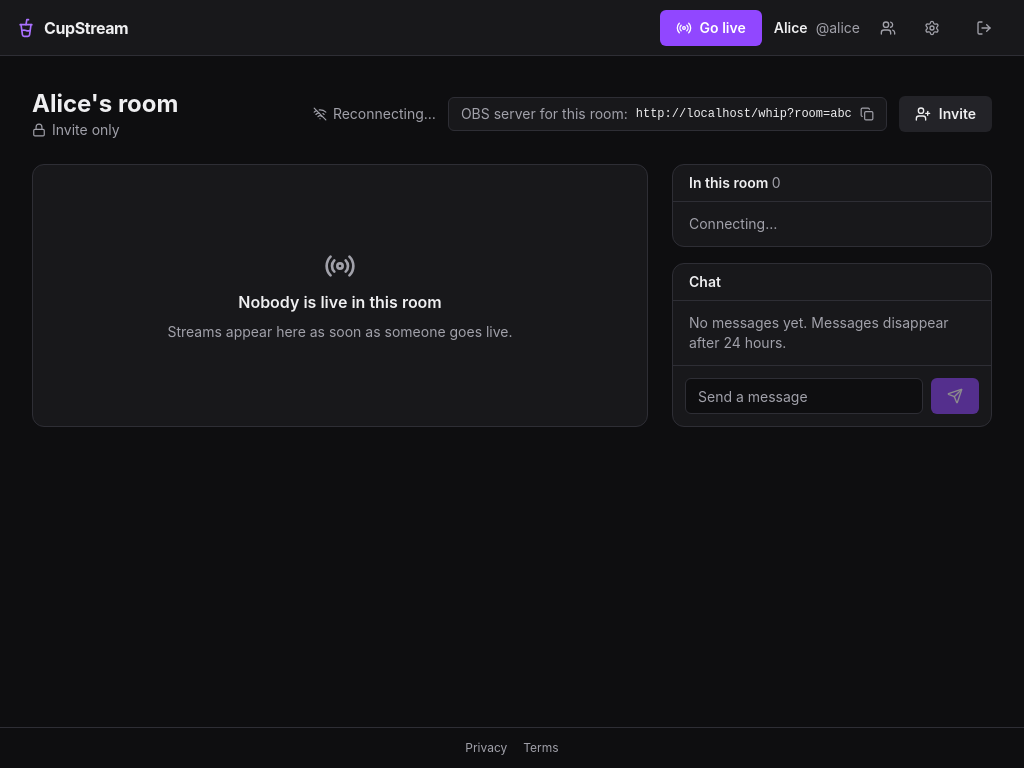
it: the owner creates and revokes invite links from the room
Click the button "Invite". click: point(945, 114)
box: top-left (899, 96), bottom-right (992, 132)
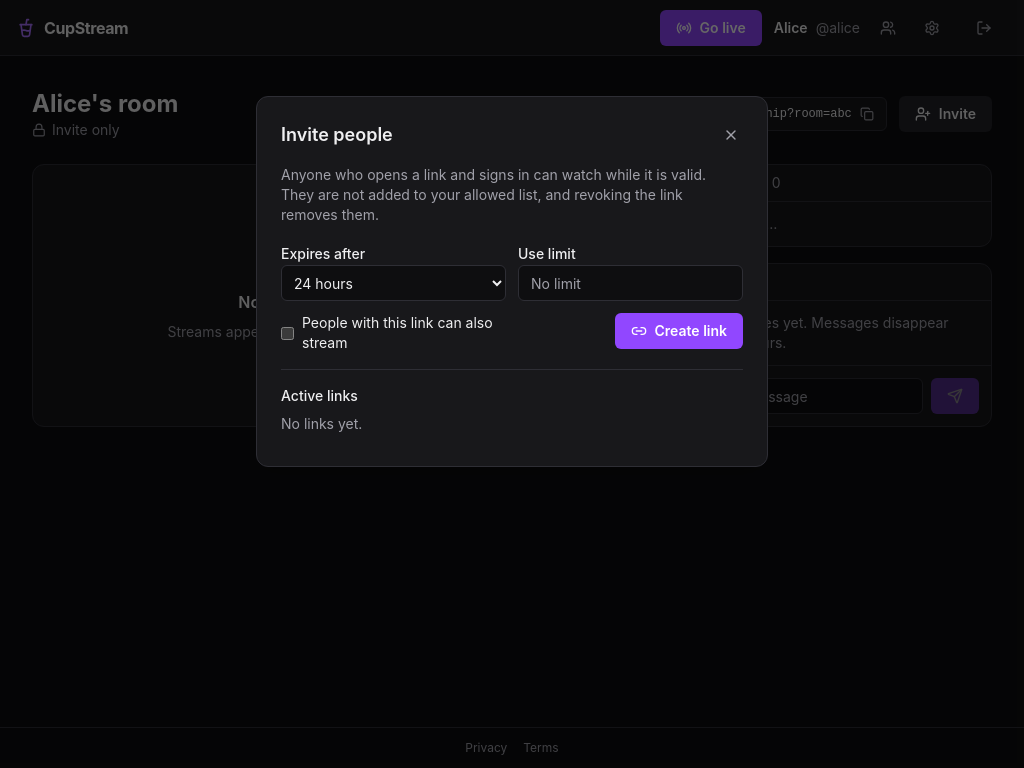
Check: the text "No links yet." is shown, box top-left (281, 415), bottom-right (362, 432)
Select "Until the stream ends" in the dropdown. click: point(394, 283)
box: top-left (281, 265), bottom-right (506, 301)
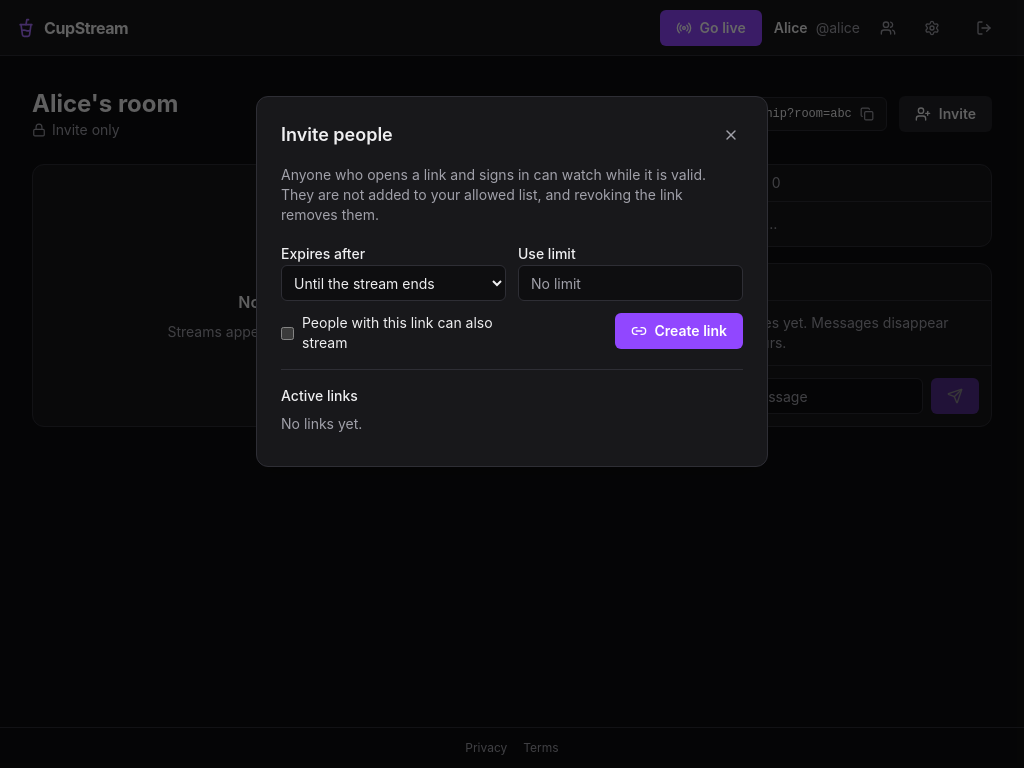
Type "5" into the number field with placeholder "No limit". click: point(630, 283)
box: top-left (518, 265), bottom-right (743, 301)
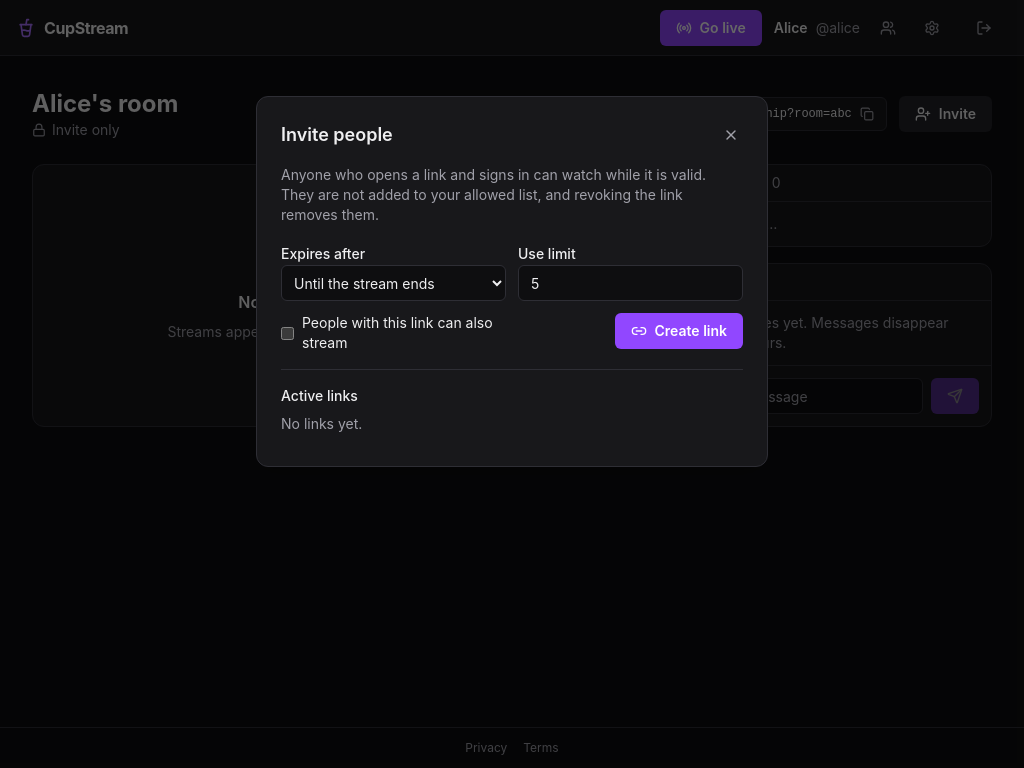
Click the checkbox. click: point(288, 333)
box: top-left (281, 326), bottom-right (294, 340)
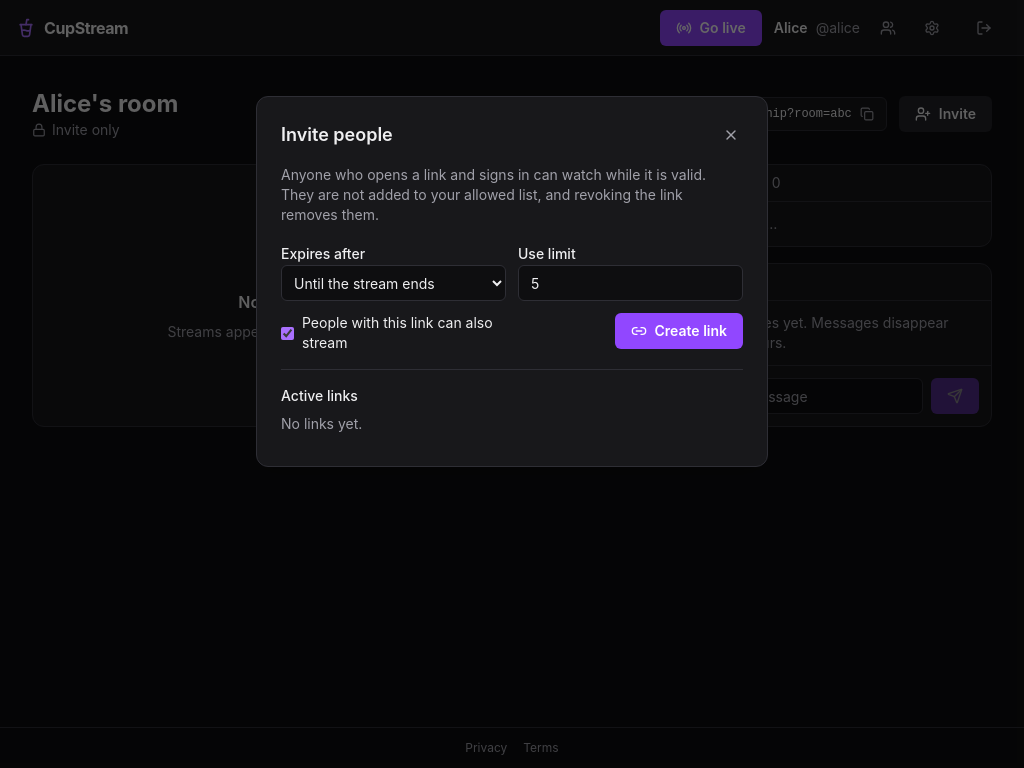
Click the button "Create link". click: point(679, 331)
box: top-left (614, 313), bottom-right (743, 349)
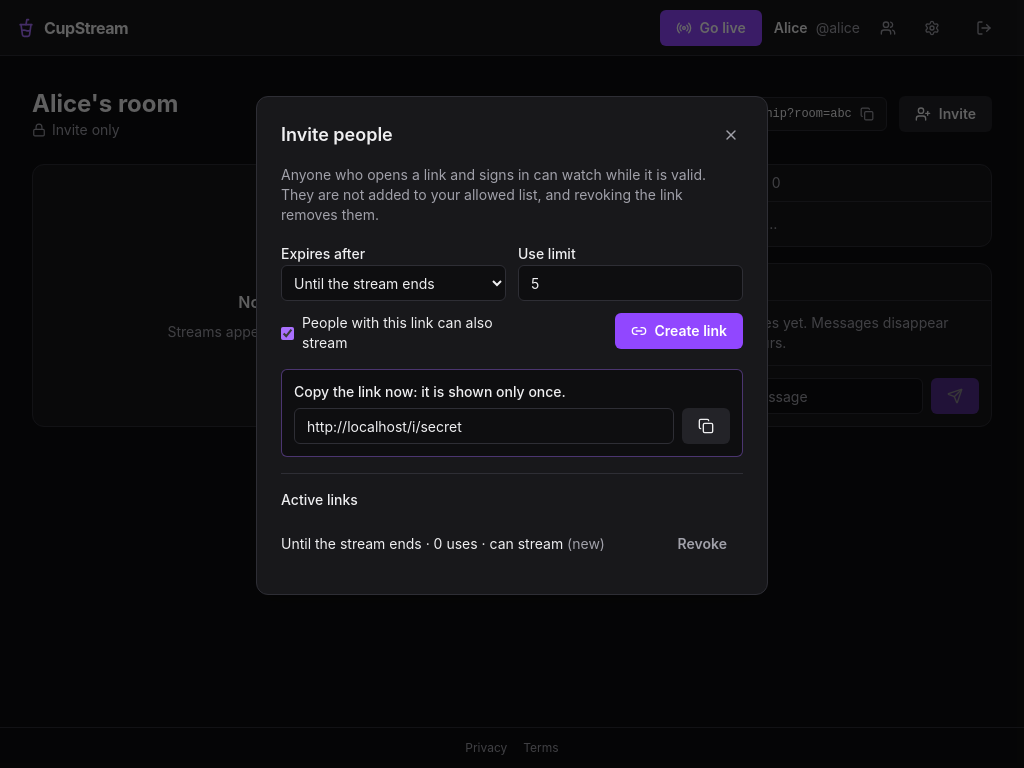
Check: the field named "New invite link" holds "http://localhost/i/secret", box top-left (294, 408), bottom-right (674, 444)
Check: the text "Until the stream ends · 0 uses · can stream (new)" is shown, box top-left (281, 534), bottom-right (605, 554)
Click the button "Revoke". click: point(702, 544)
box: top-left (662, 526), bottom-right (743, 562)
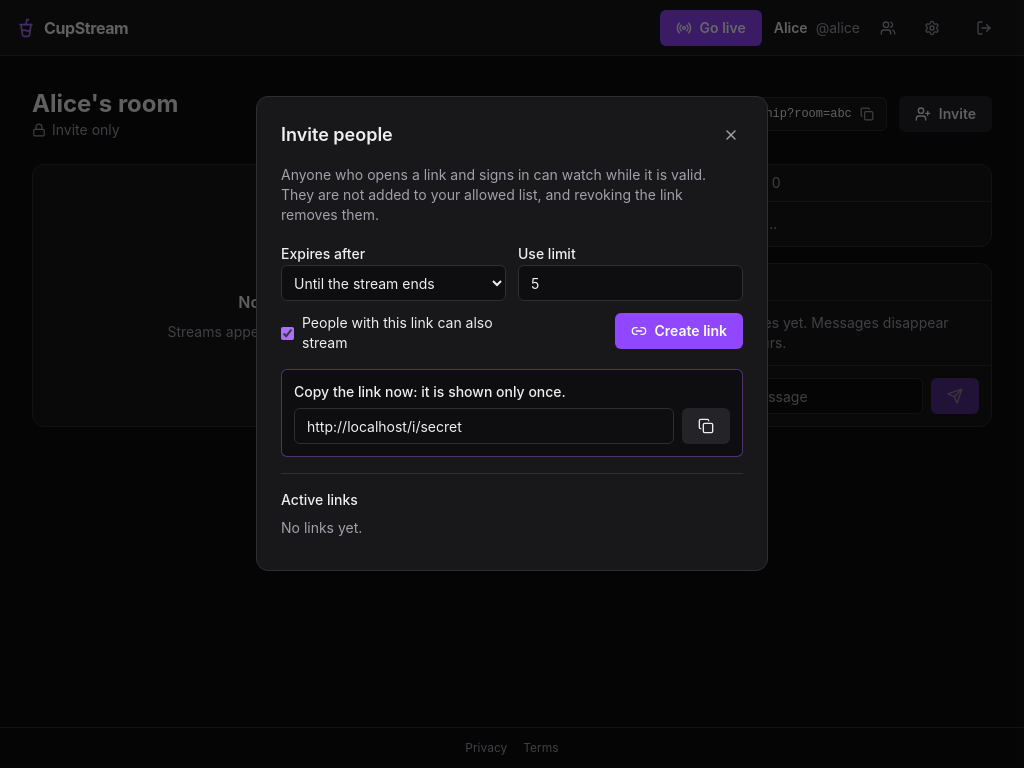
Check: the text "No links yet." is shown, box top-left (281, 519), bottom-right (362, 536)
